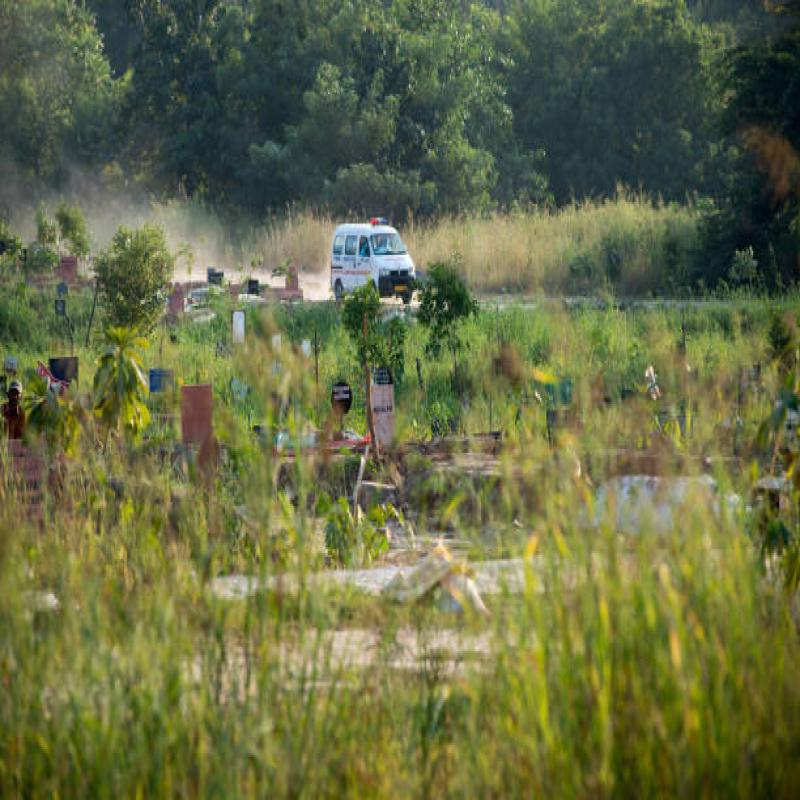ambulance: (324, 200, 425, 306)
